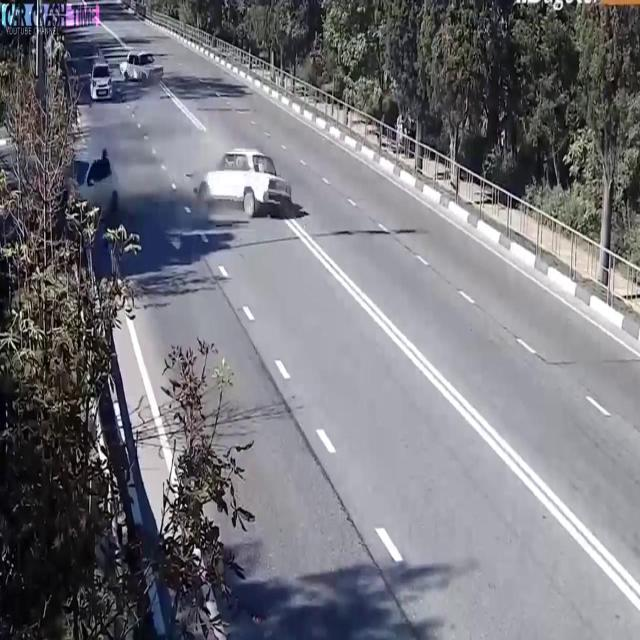accident: (170, 138, 307, 228), (34, 138, 141, 250)
non_accident: (85, 43, 167, 109)
